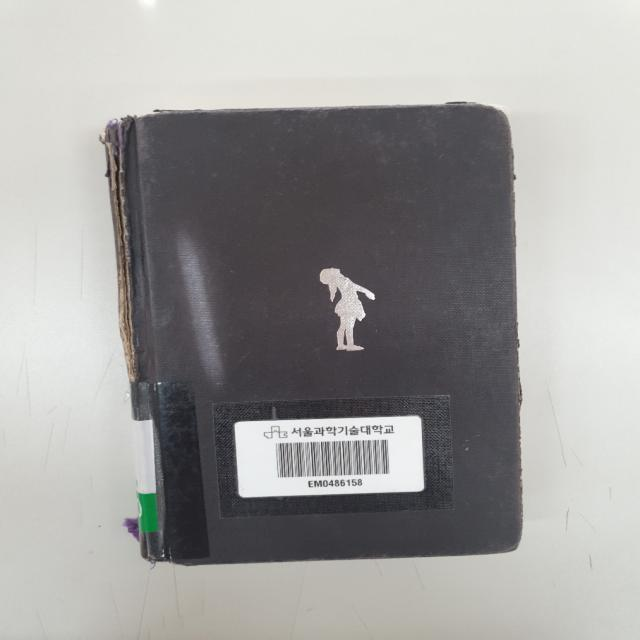Ripped: (89, 110, 148, 382), (508, 319, 531, 415), (151, 104, 210, 119), (444, 96, 485, 110)
Wornout: (502, 151, 526, 251), (510, 414, 530, 533), (133, 544, 208, 572), (350, 102, 444, 124), (455, 534, 528, 559), (484, 100, 518, 150), (357, 543, 441, 563), (271, 102, 340, 126)
